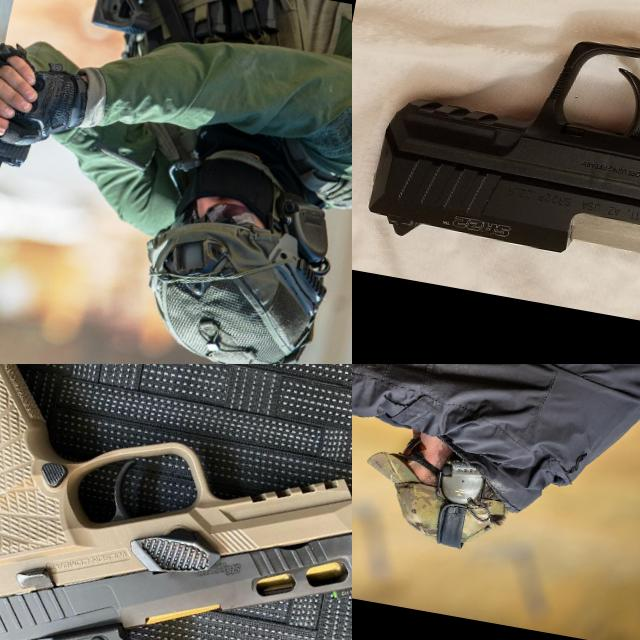handgun: (355, 0, 640, 355), (0, 364, 352, 640), (0, 83, 62, 181), (352, 364, 403, 418)
